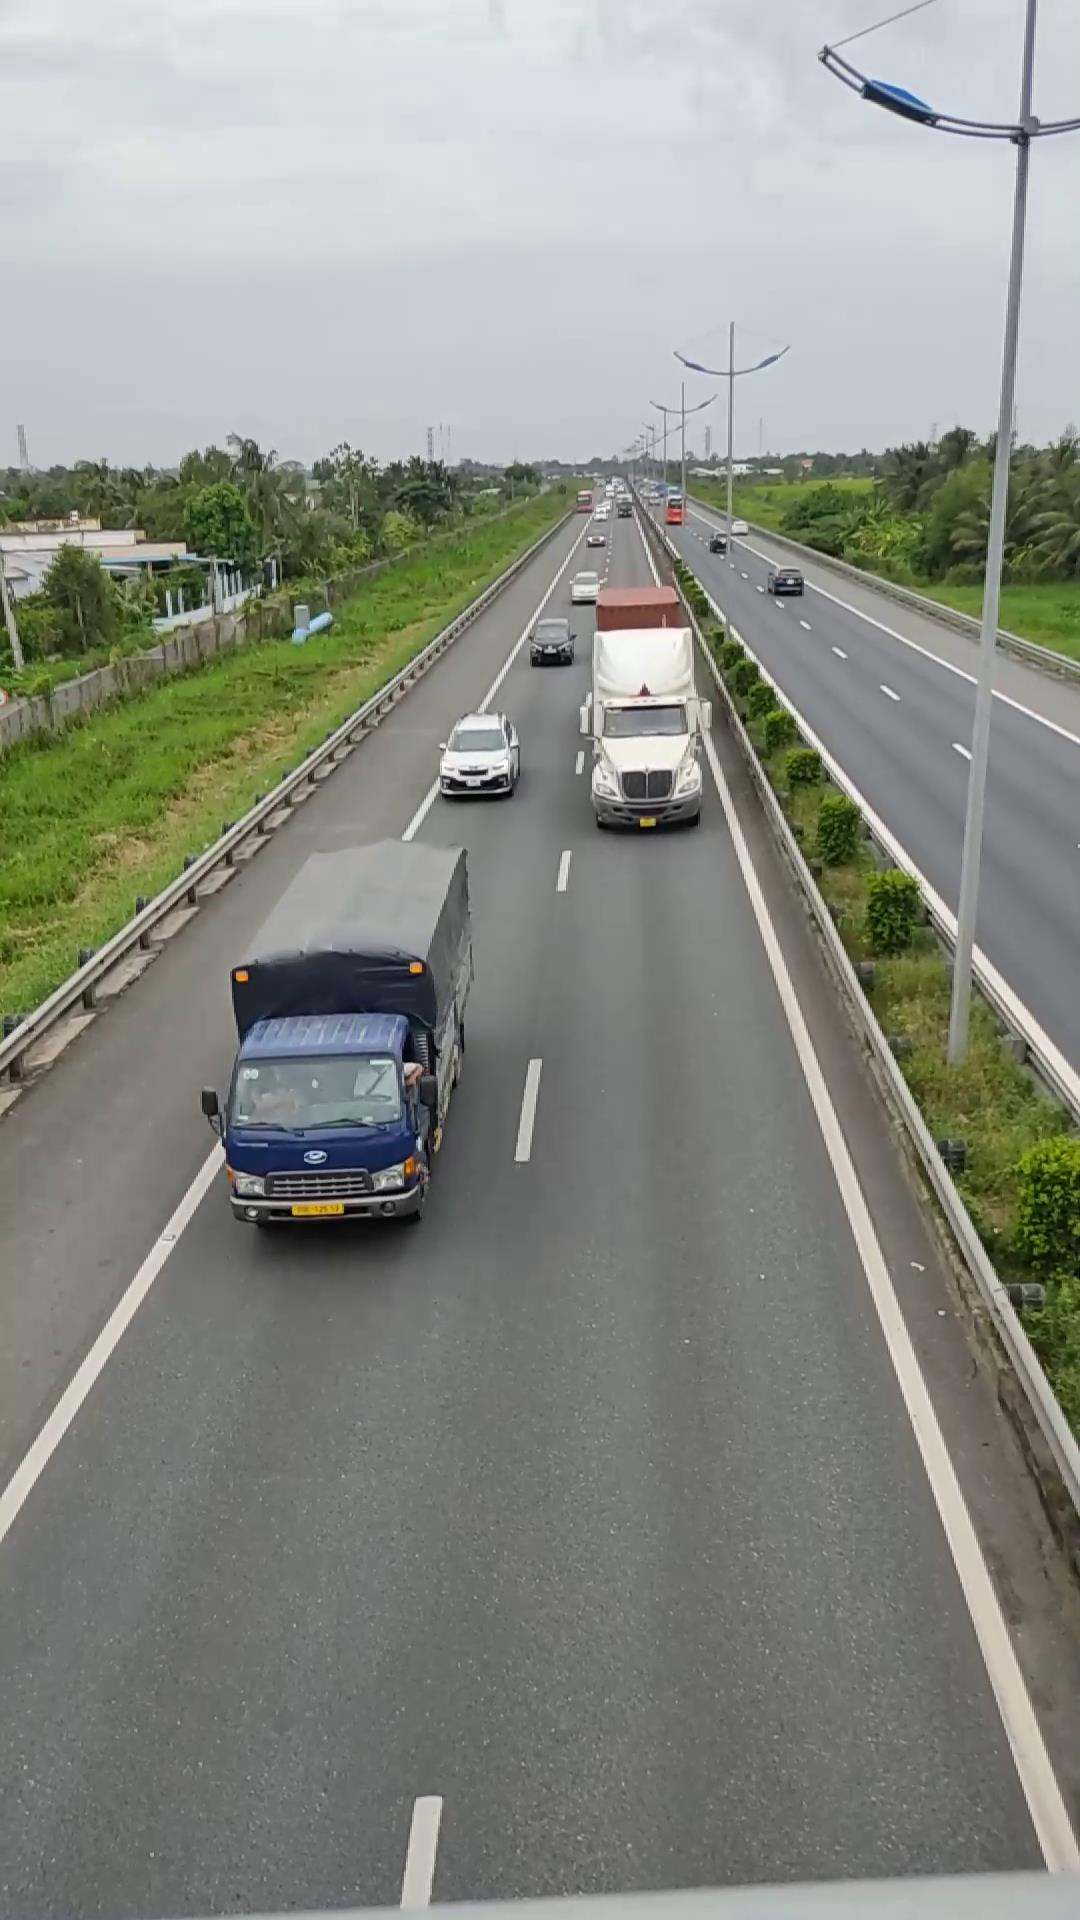car: (438, 713, 522, 798)
container: (574, 574, 710, 828)
truck: (212, 830, 479, 1228)
